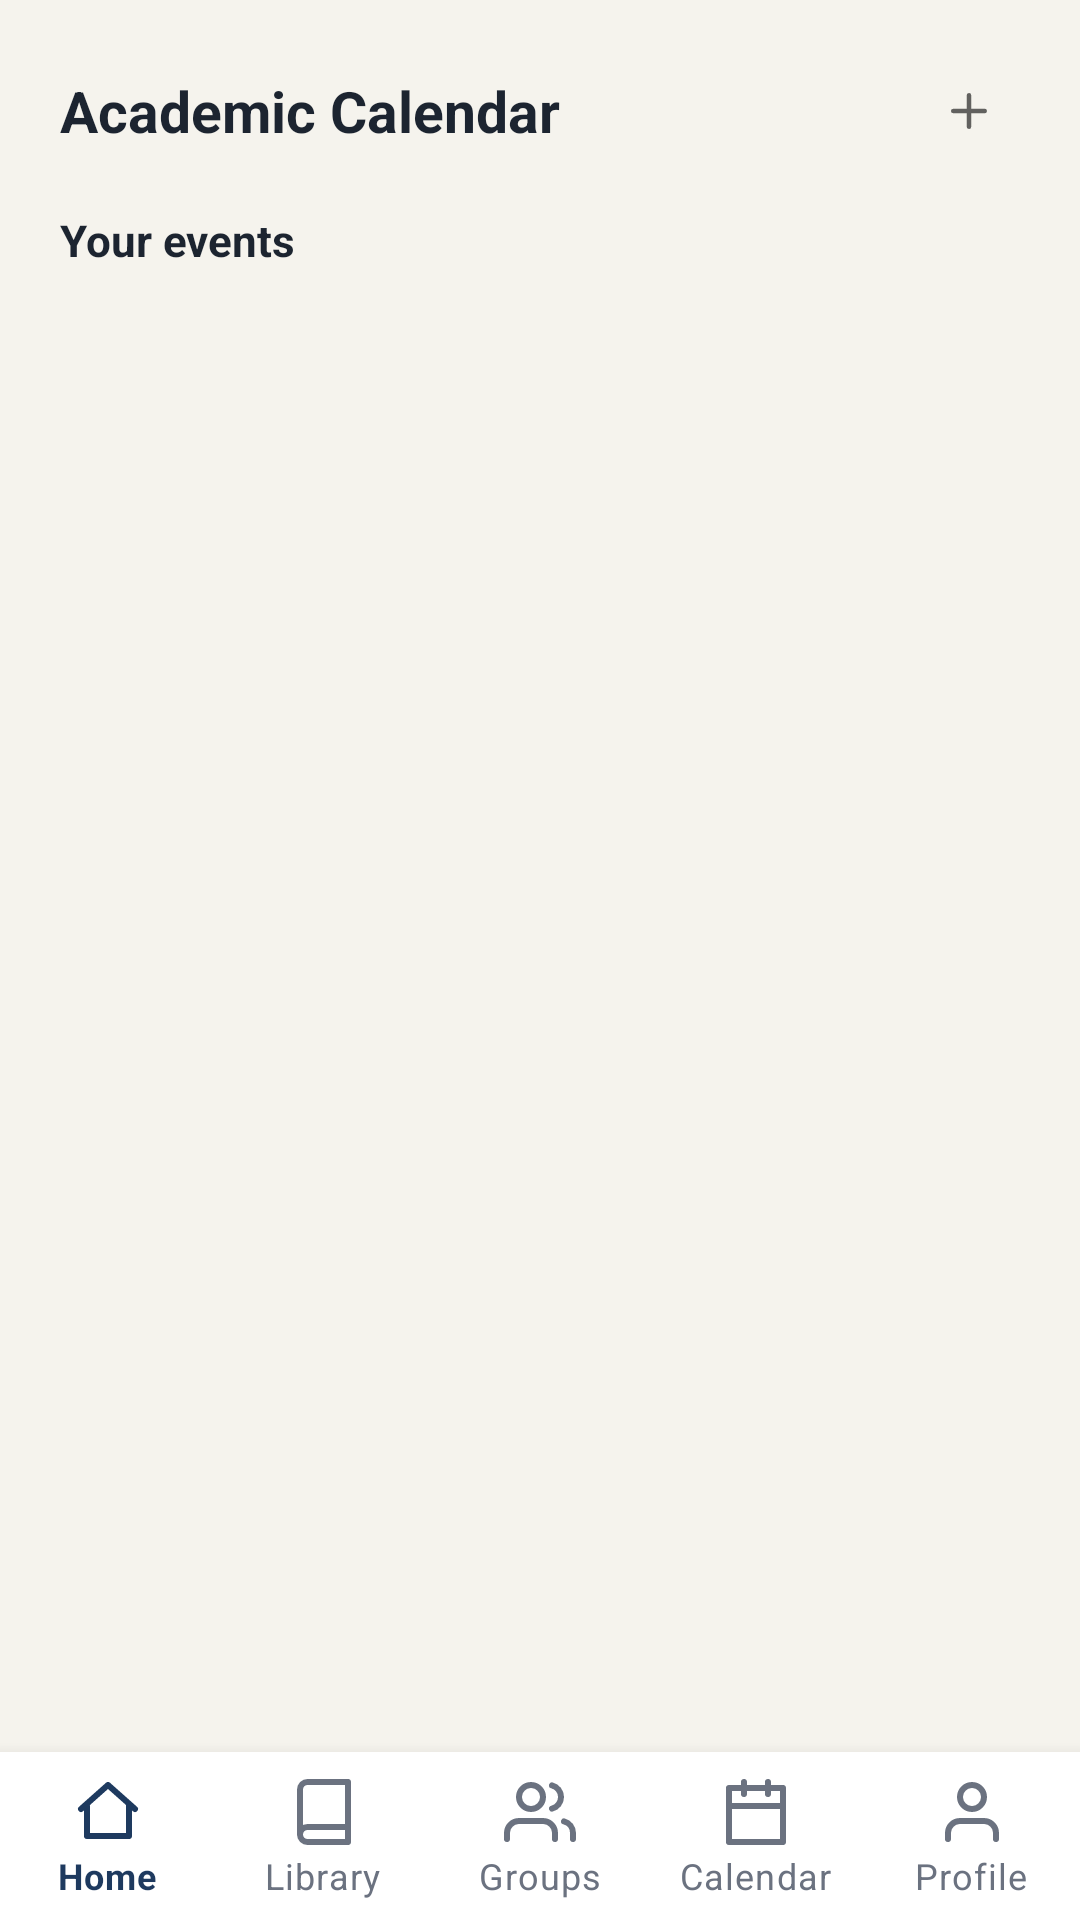

Icons on this 1080 x 1920 Android screen, each with its box as region(x1, y1, x2, y2):
add: region(951, 93, 987, 129)
